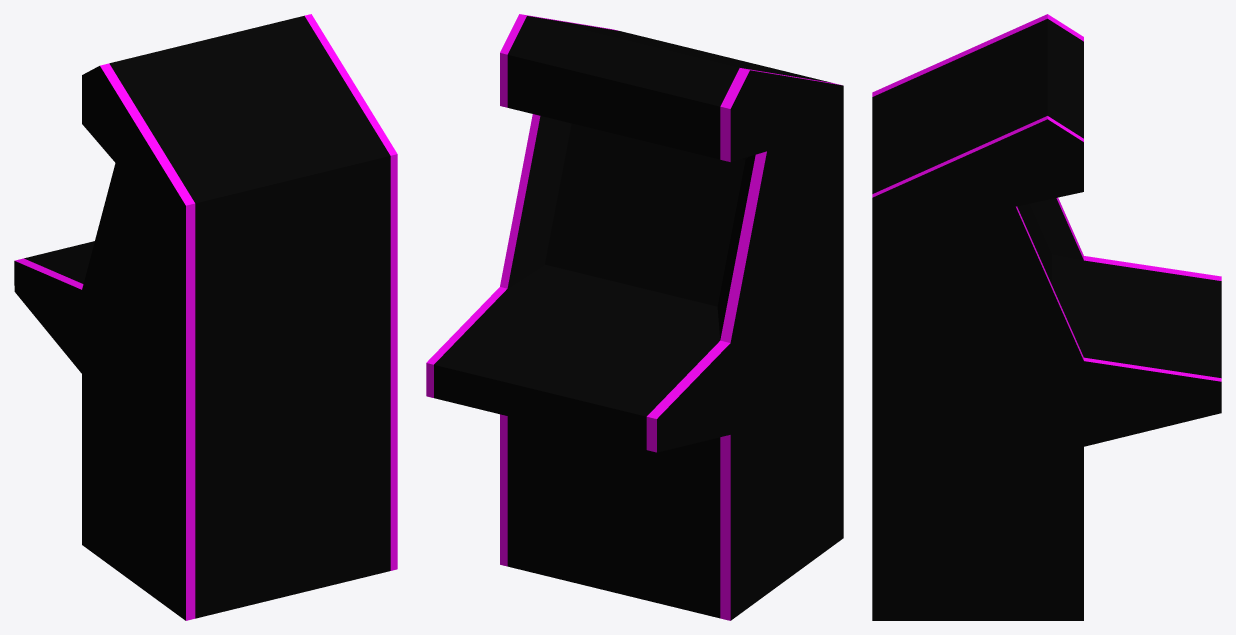
The picture shows the model from 3 angles, left to right: view 1: azimuth 30°, elevation 25°; view 2: azimuth 150°, elevation 25°; view 3: azimuth 270°, elevation 25°; orthographic projection. The views are drawn at different scales.
Parts seen in each view (by area): view 1: cabinet; view 2: cabinet; view 3: cabinet.
Part boxes in pixels (x1,y1,x2,y2): cabinet: (14, 14, 397, 620); cabinet: (426, 14, 843, 620); cabinet: (872, 14, 1221, 620).
Size of the model in its own units: 0.9 by 2 by 1.26.
1 material, 1 textured.
